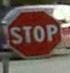stop: (3, 7, 63, 59)
